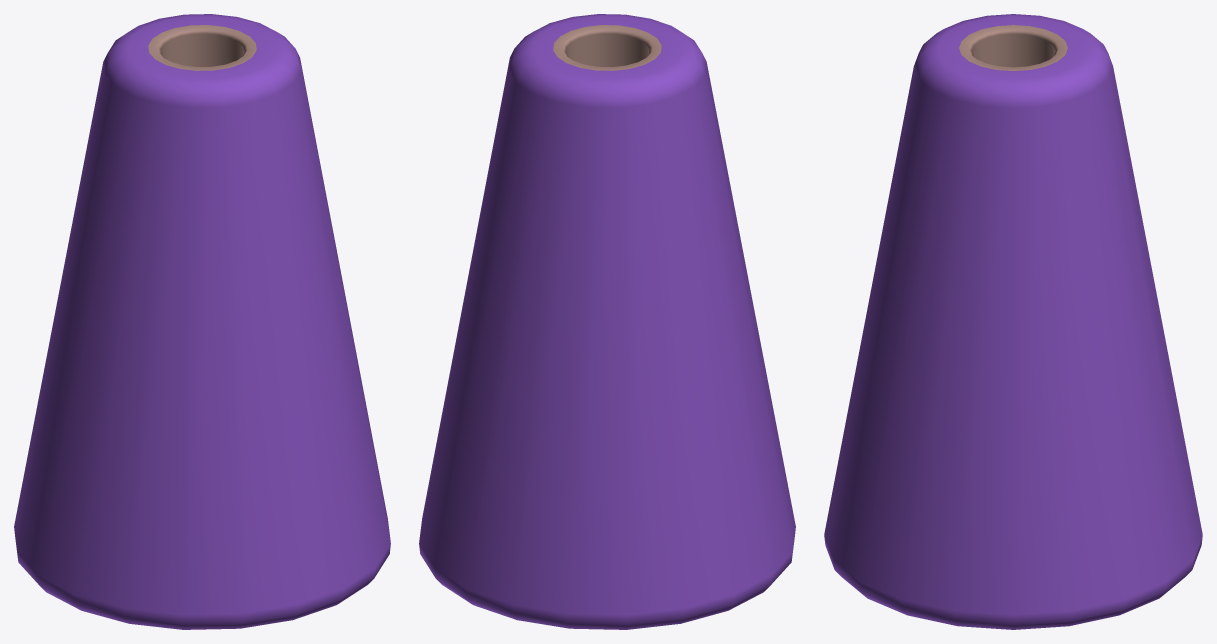
The model's file is Public_19_Skein_of_thread_3.glb.
3 renders of one model, left to right at view 1: azimuth 30°, elevation 25°; view 2: azimuth 150°, elevation 25°; view 3: azimuth 270°, elevation 25°, orthographic.
Parts seen in each view (by area): view 1: Public_19_Skein_of_thread_3; view 2: Public_19_Skein_of_thread_3; view 3: Public_19_Skein_of_thread_3.
Boxes of the visible parts, x1,y1,x2,y2 form: Public_19_Skein_of_thread_3: (14,14,390,629); Public_19_Skein_of_thread_3: (419,14,795,629); Public_19_Skein_of_thread_3: (824,14,1202,629).
Size of the model in its own units: 0.3044 by 0.4513 by 0.3044.
1 material, 1 textured.
